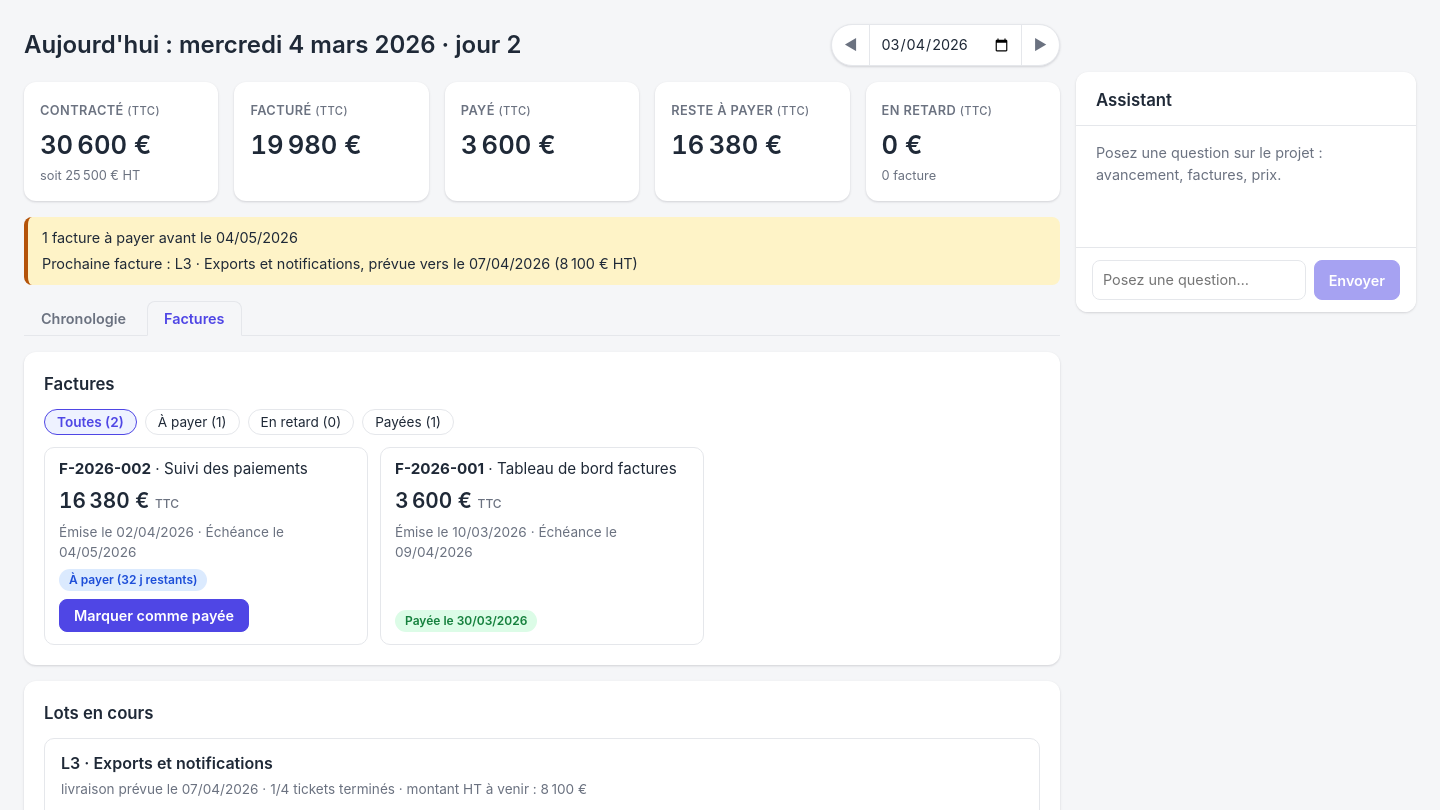
ClientPage › marking an invoice paid › posts the payment, then refetches everything
The width and height of the screenshot is (1440, 810).
Click the button "Marquer comme payée" at x=154, y=615, box [59,599,249,632]
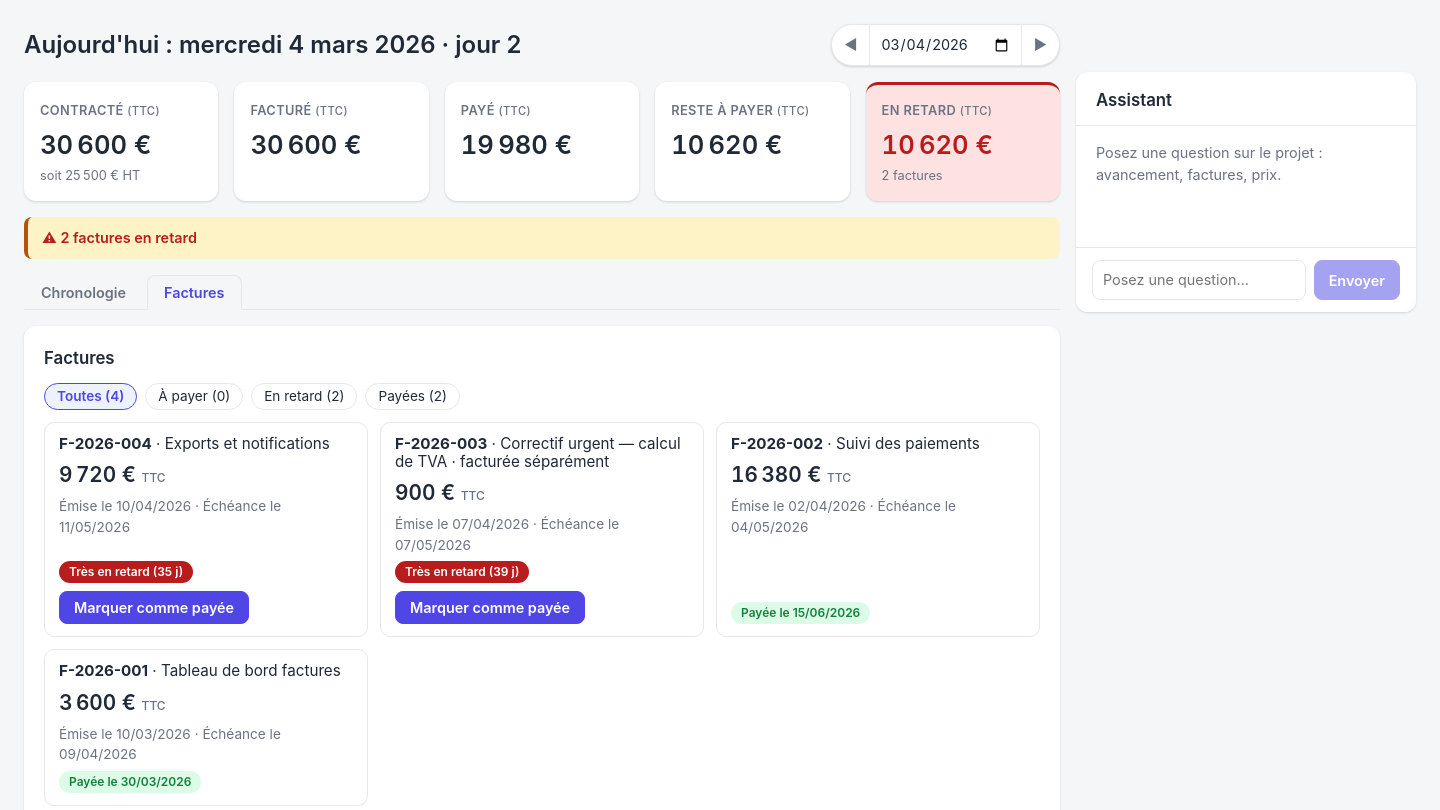
Expected: the text "Payée le 15/06/2026" is shown, [731,602,870,624]
